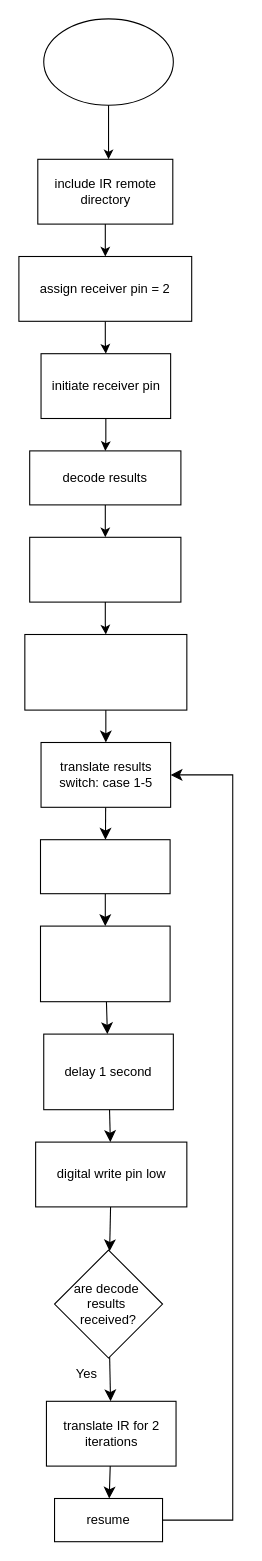
The diagram is 262 pixels wide and 1561 high, and some of its shapes have lost their labels. The box of each missing label's shape, as (x1, y1, x2, y2) in pixels:
begin serial 9600: (29, 536, 181, 602)
create for loop for 5 iterations for pinMode output: (24, 633, 187, 710)
digital write pin high based on switch results: (39, 925, 170, 1002)
Print results value in serial monitor: (39, 839, 170, 894)
Start: (43, 18, 173, 105)
